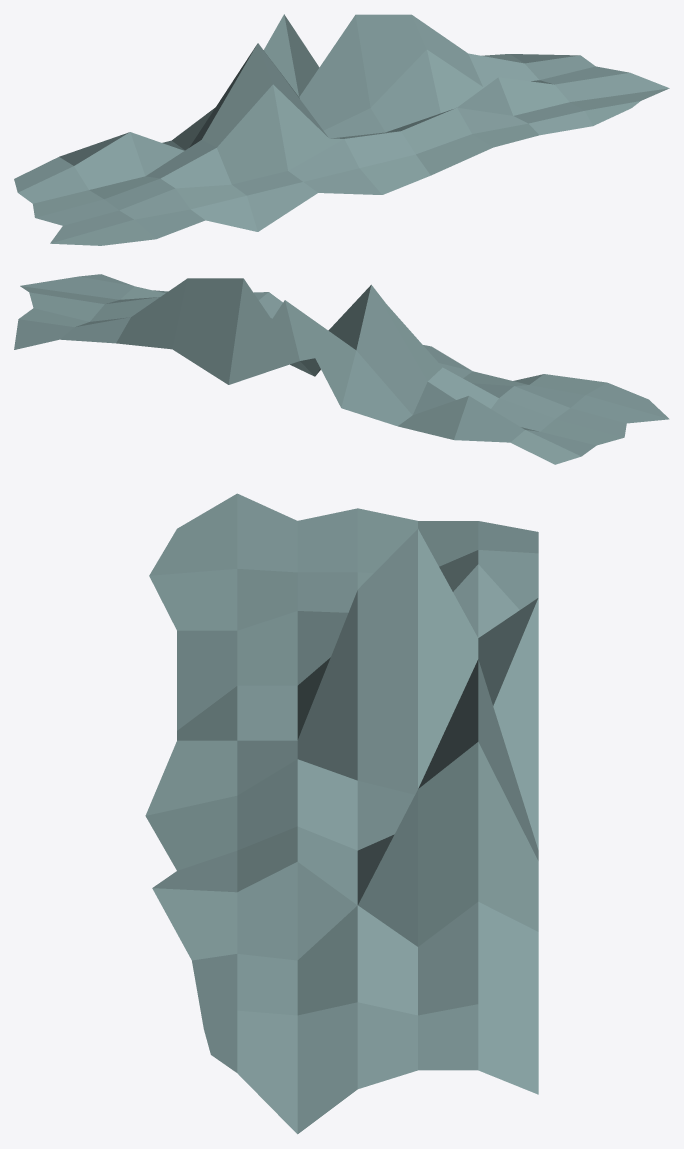
Rendered from landscape2.gltf.
The picture shows the model from 3 angles, top to bottom: view 1: azimuth 30°, elevation 25°; view 2: azimuth 150°, elevation 25°; view 3: azimuth 270°, elevation 25°; orthographic projection. The views are drawn at different scales.
Visible parts, largest first — view 1: Landscape; view 2: Landscape; view 3: Landscape.
Part boxes in pixels (x1,y1,x2,y2): Landscape: (14, 14, 669, 245); Landscape: (14, 274, 669, 464); Landscape: (145, 493, 538, 1134).
Size of the model in its own units: 677 by 133 by 181.
